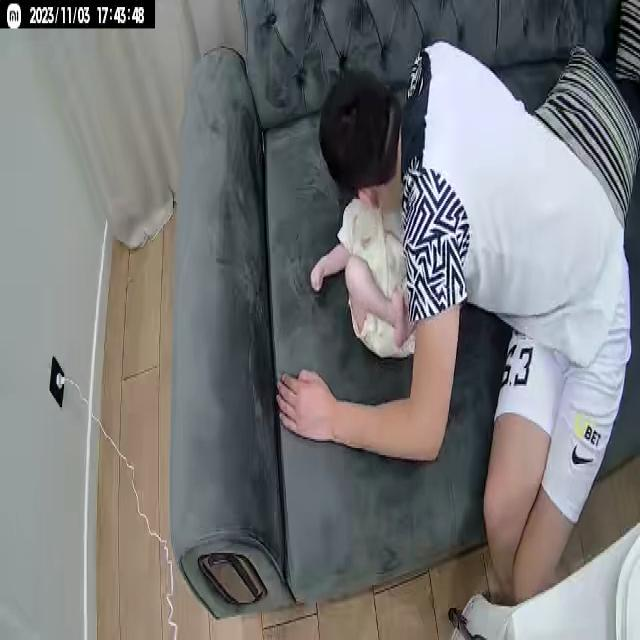baby: (308, 190, 441, 378)
